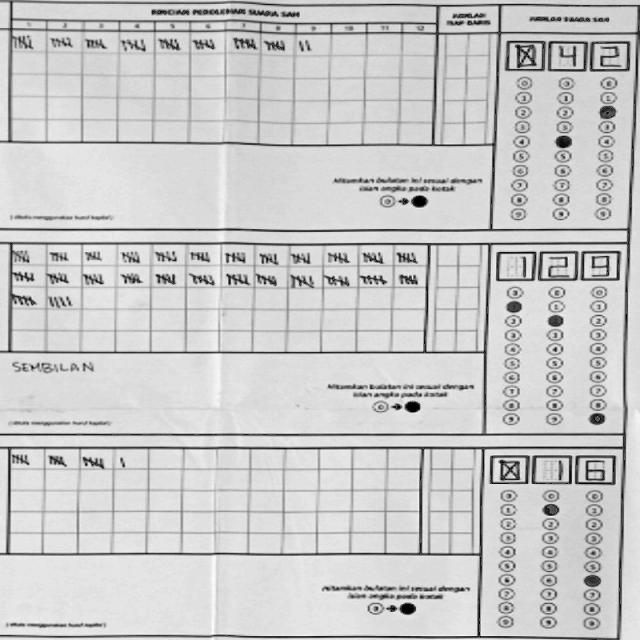Suara: (487, 448, 615, 490), (502, 37, 638, 74), (490, 247, 624, 283)
